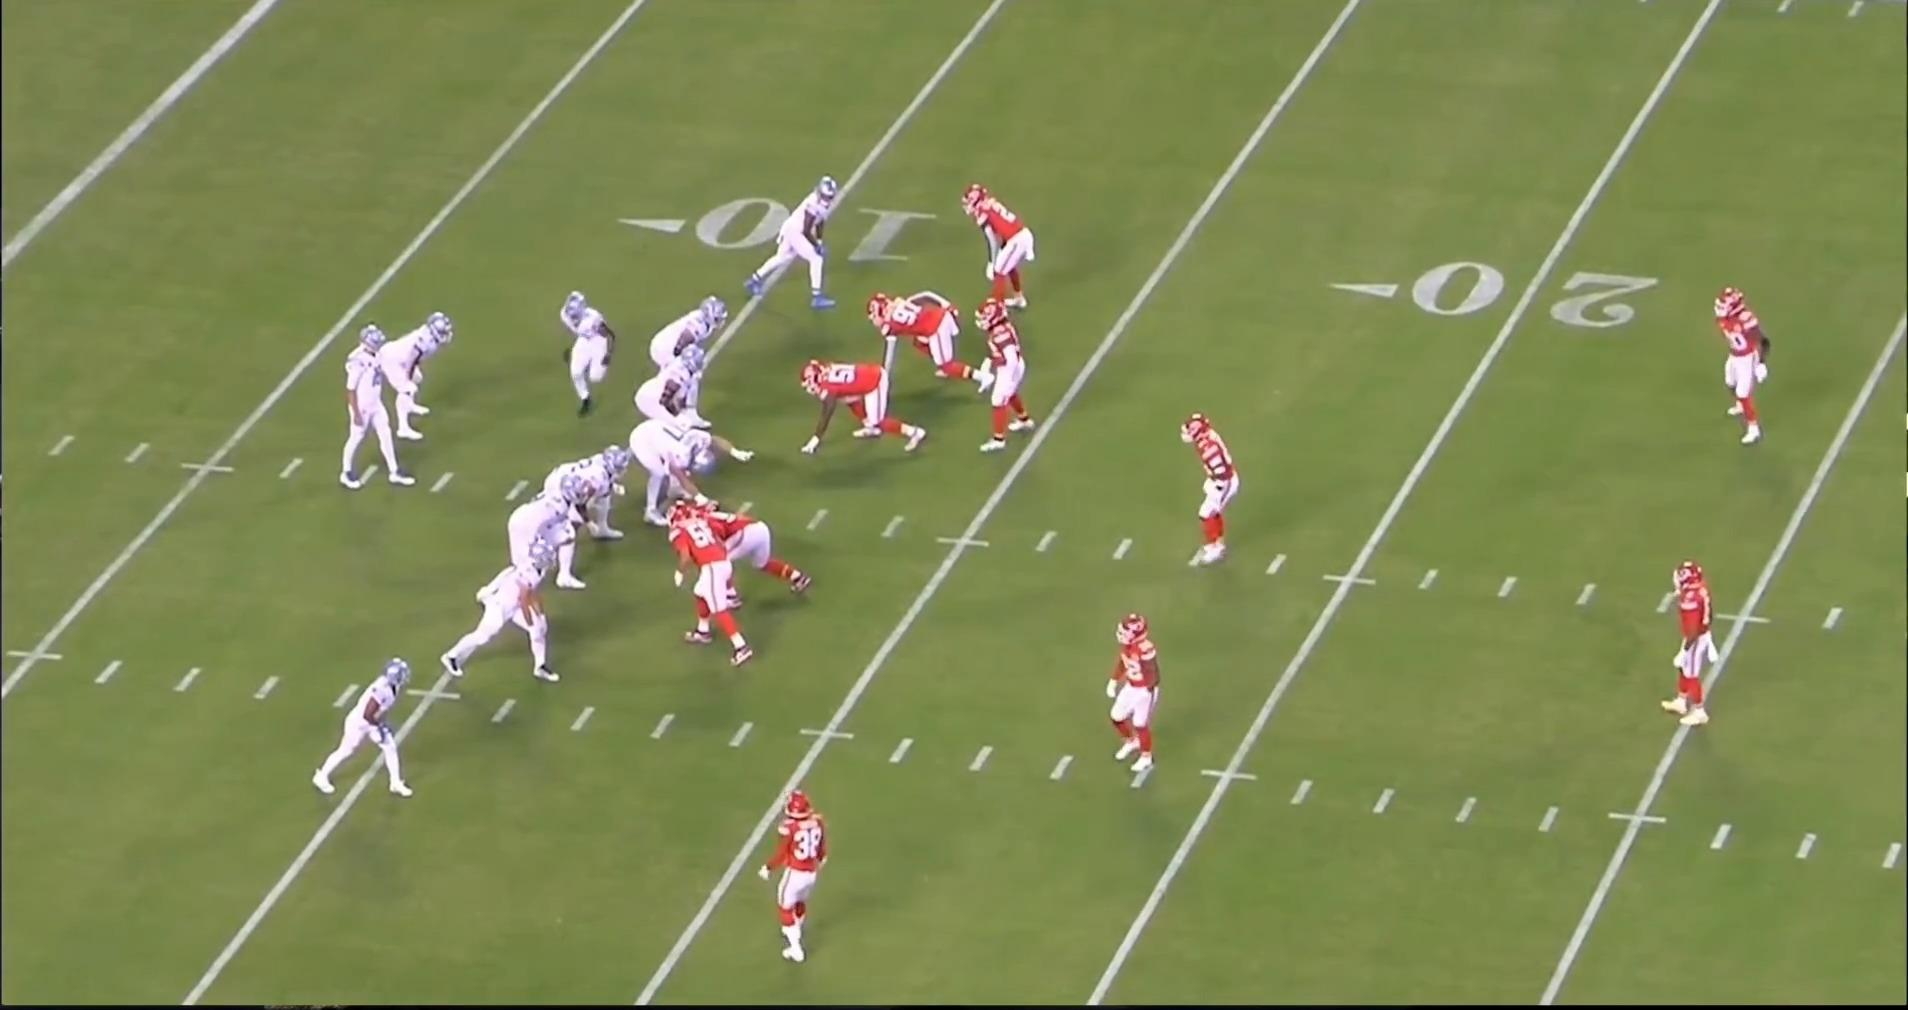player: (445, 541, 573, 688), (303, 651, 417, 804), (663, 502, 758, 671), (739, 170, 849, 311), (326, 328, 414, 499), (684, 502, 821, 608), (480, 471, 588, 605), (761, 787, 838, 971), (793, 357, 929, 458), (864, 290, 986, 390), (1701, 278, 1771, 452), (1661, 560, 1730, 736), (1102, 606, 1168, 786), (539, 443, 631, 563), (627, 413, 718, 532), (966, 175, 1042, 317), (648, 293, 730, 423), (1178, 413, 1241, 575), (388, 309, 463, 445), (966, 299, 1031, 455), (551, 281, 615, 421), (634, 350, 712, 433)
